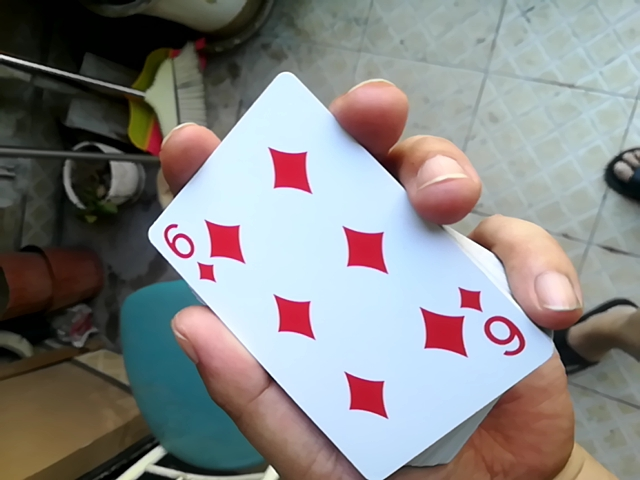fk 6: (138, 68, 541, 480)
